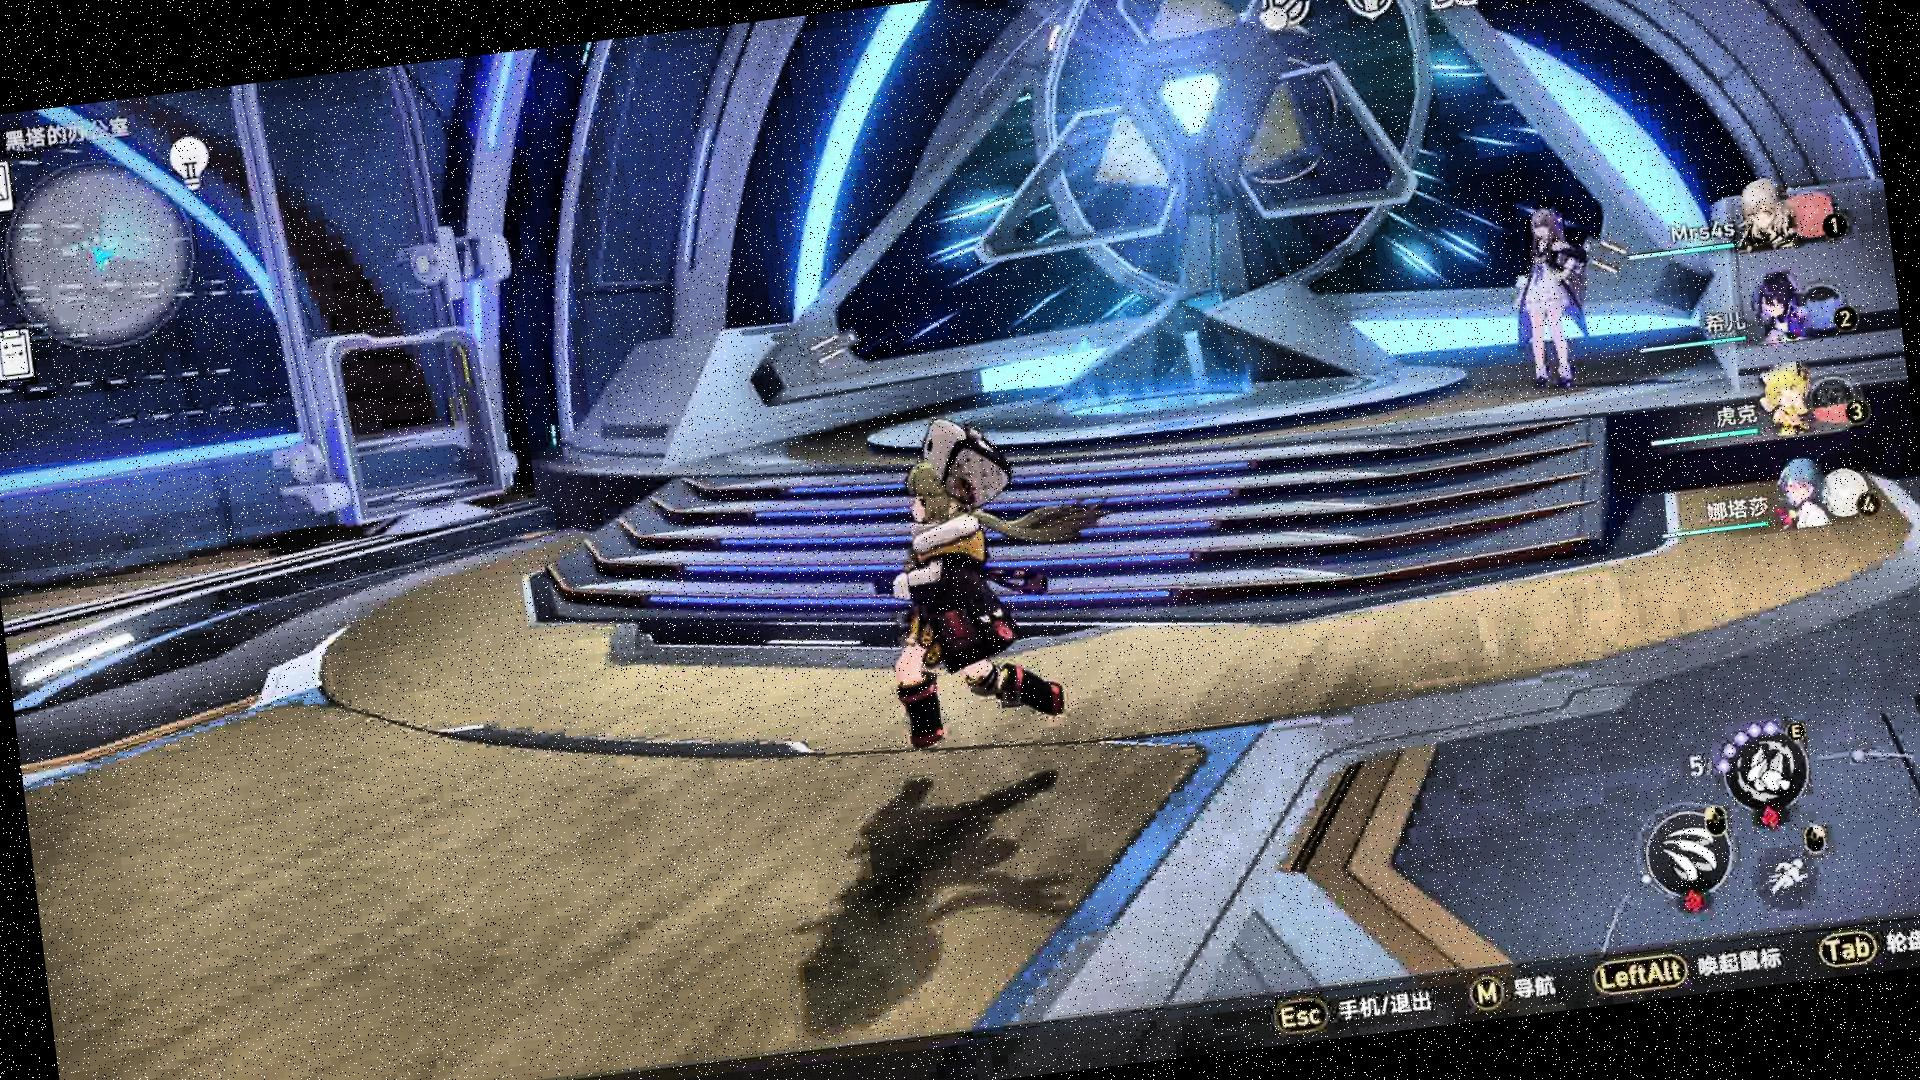Self: (851, 404, 1129, 753)
TeamMate: (1497, 198, 1602, 401)
